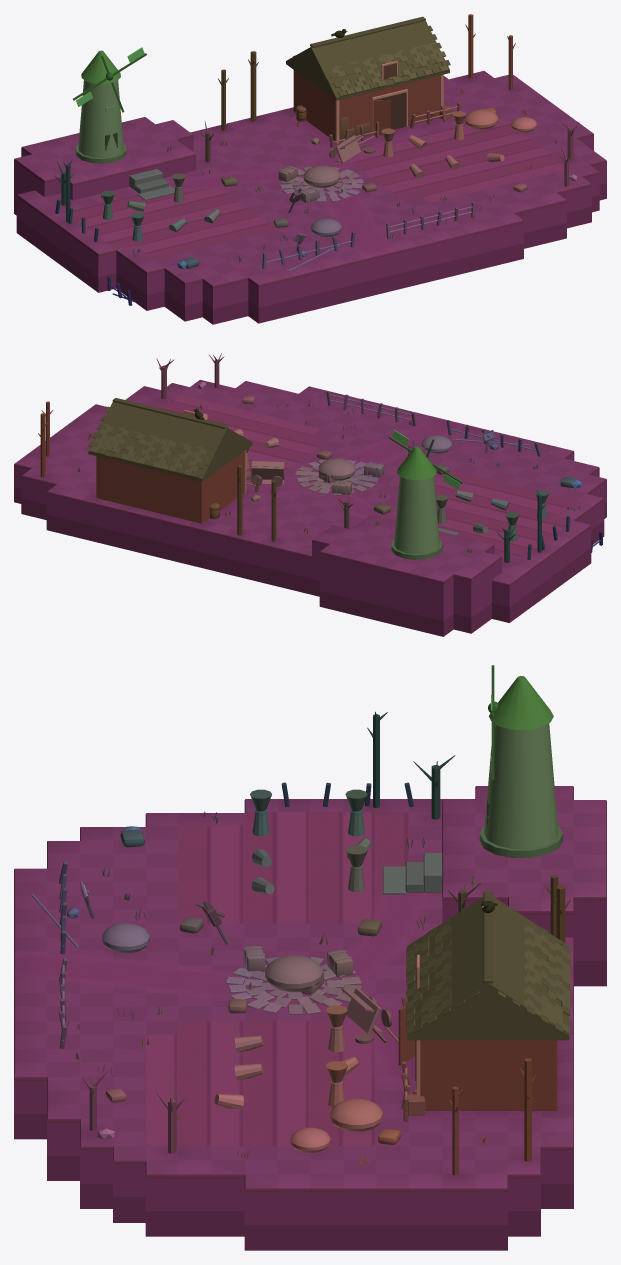
The model's file is grass_2_withered.glb.
3 renders of one model, top to bottom at view 1: azimuth 30°, elevation 25°; view 2: azimuth 150°, elevation 25°; view 3: azimuth 270°, elevation 25°, orthographic. The views are drawn at different scales.
Parts seen in each view (by area): view 1: Terrain.001, Buildings, Props, Trees, Greenery; view 2: Terrain.001, Buildings, Props, Trees, Greenery; view 3: Terrain.001, Buildings, Props, Trees, Greenery.
Part boxes in pixels (bbox=[...]): Terrain.001: bbox=[14, 71, 606, 324]; Buildings: bbox=[73, 16, 450, 163]; Props: bbox=[55, 29, 577, 305]; Trees: bbox=[54, 14, 579, 222]; Greenery: bbox=[70, 88, 557, 268]; Terrain.001: bbox=[14, 379, 606, 636]; Buildings: bbox=[88, 398, 462, 559]; Props: bbox=[194, 382, 602, 559]; Trees: bbox=[38, 353, 546, 562]; Greenery: bbox=[77, 396, 579, 552]; Terrain.001: bbox=[14, 786, 606, 1250]; Buildings: bbox=[398, 665, 570, 1110]; Props: bbox=[31, 782, 497, 1153]; Trees: bbox=[82, 711, 570, 1175]; Greenery: bbox=[58, 811, 485, 1164].
Bounding box in the file's own units: 28 × 8.69 × 18.
35 materials, 1 textured.
